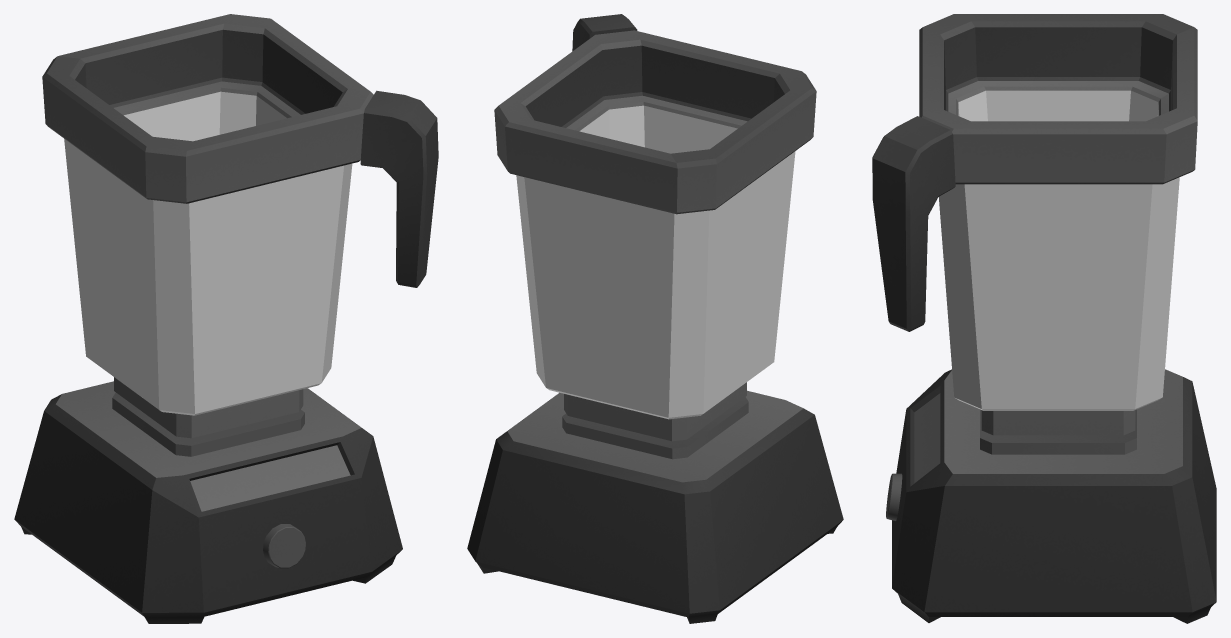
The model's file is blender1.fbx.
The picture shows the model from 3 angles, left to right: view 1: azimuth 30°, elevation 25°; view 2: azimuth 150°, elevation 25°; view 3: azimuth 270°, elevation 25°; orthographic projection. The views are drawn at different scales.
Parts seen in each view (by area): view 1: blender1, blender1Glass; view 2: blender1, blender1Glass; view 3: blender1, blender1Glass.
Boxes of the visible parts, x1=… form: blender1: x1=14, y1=14, x2=438, y2=623; blender1Glass: x1=64, y1=91, x2=352, y2=415; blender1: x1=467, y1=14, x2=843, y2=623; blender1Glass: x1=516, y1=105, x2=795, y2=419; blender1: x1=872, y1=14, x2=1216, y2=623; blender1Glass: x1=938, y1=90, x2=1179, y2=410.
Bounding box in the file's own units: 0.7855 × 1.22 × 0.776.
